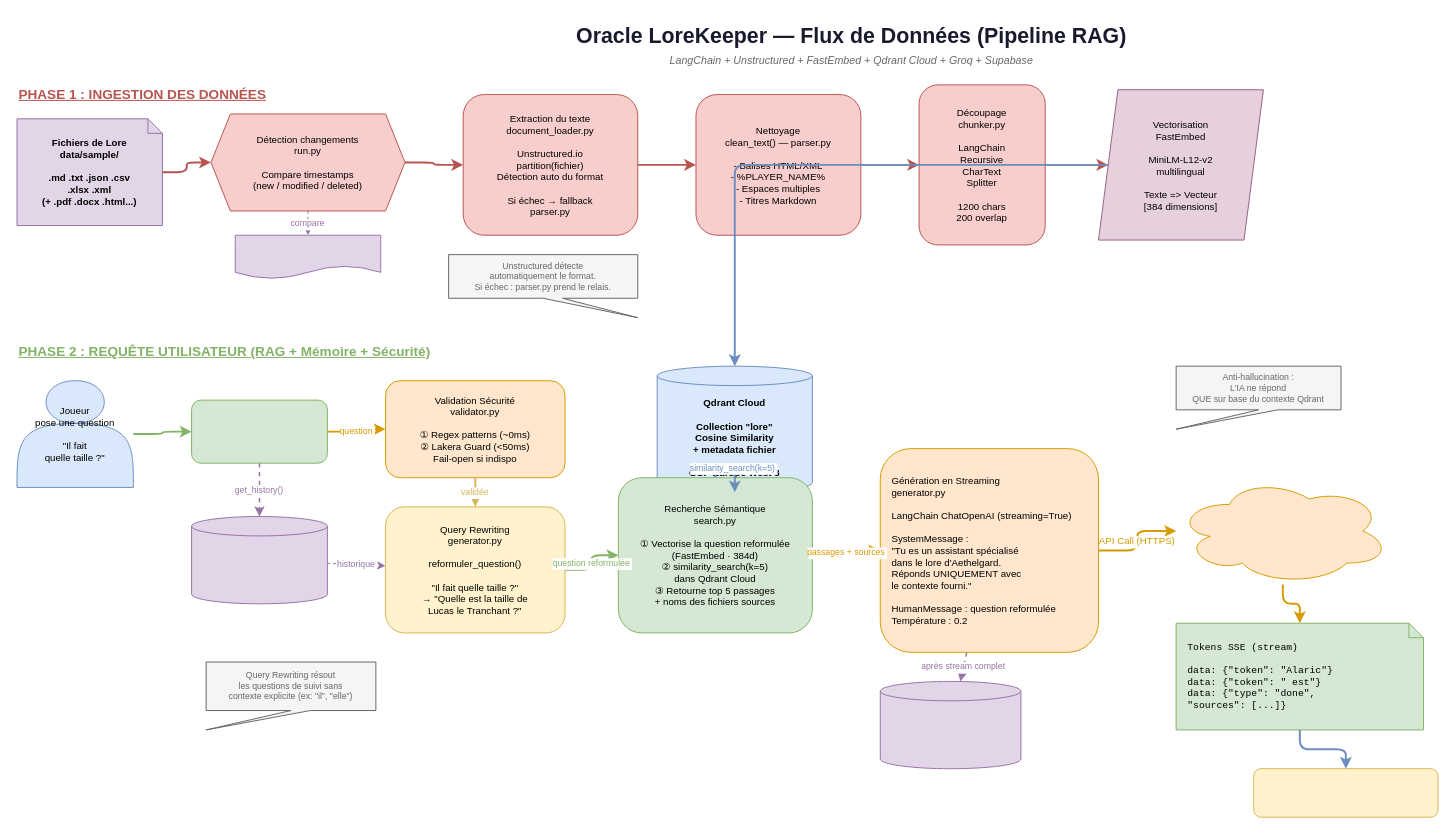
Some shapes in this 1455 by 834 pixel diagram are drawn without their labels. Here are the shapes that lost their labels. From the top down, the box of each, then its label:
(234, 234, 381, 279): files_metadata.json (timestamps fichiers)
(191, 399, 327, 463): Flask API POST /api/ask routes.py
(1175, 477, 1390, 584): Groq Cloud llama-3.3-70b-versatile (~500 tokens/s)
(191, 516, 327, 604): Supabase get_history() (5 derniers échanges)
(879, 680, 1021, 769): Supabase save_exchange() log_event()
(1253, 768, 1438, 817): Affichage dans le Grimoire (avec bouton Écouter TTS)
